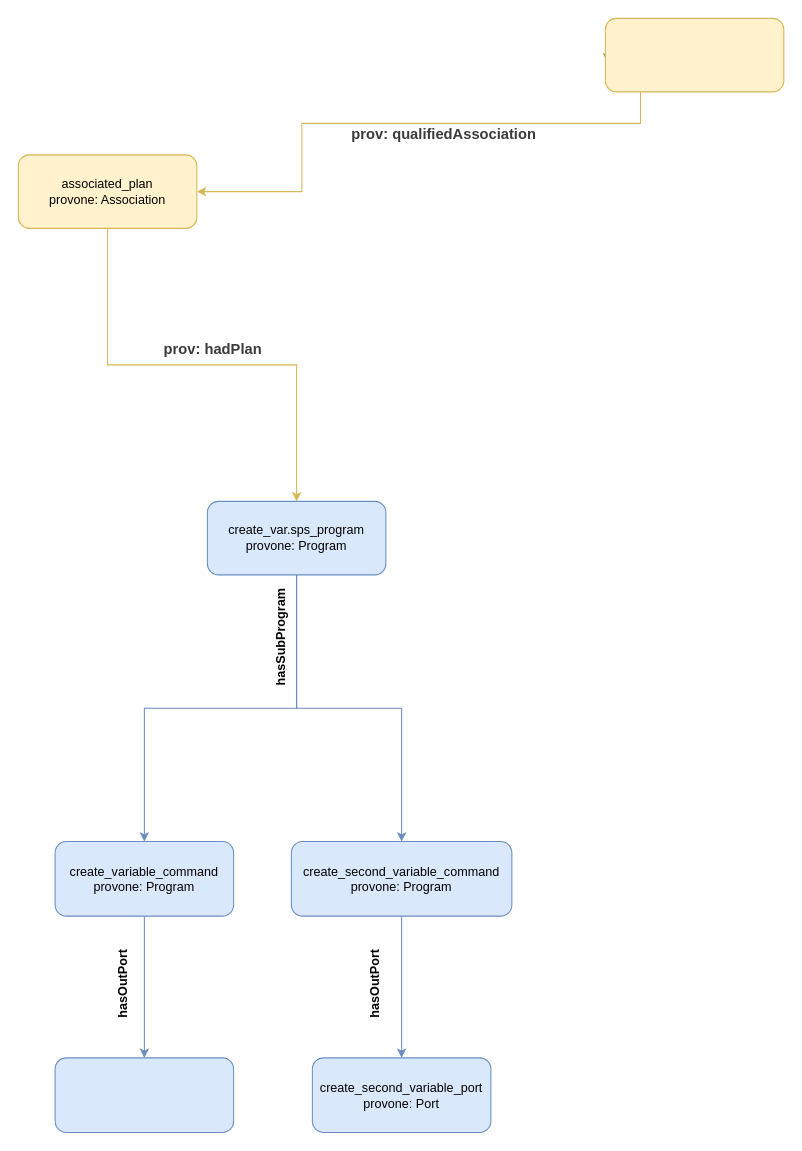
Some shapes in this 802 by 1151 pixel diagram are drawn without their labels. The shapes that lost their labels are listed below. From the top down, each one's box as (x1, y1, x2, y2) in pixels, then its label:
(604, 17, 784, 92): script_exection provone: Execution
(54, 1057, 234, 1132): create_variable_port provone: Port
